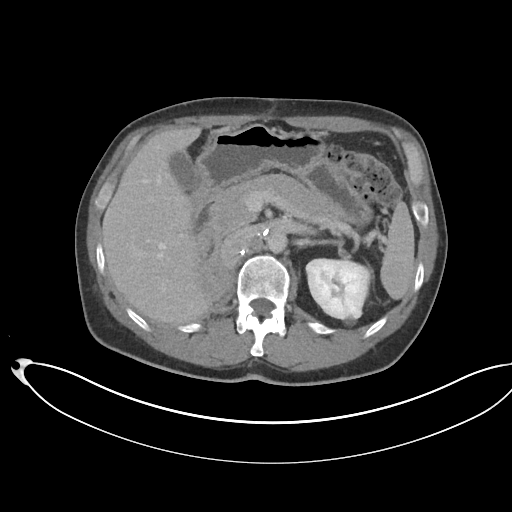Lesion: (339, 313, 359, 328)
